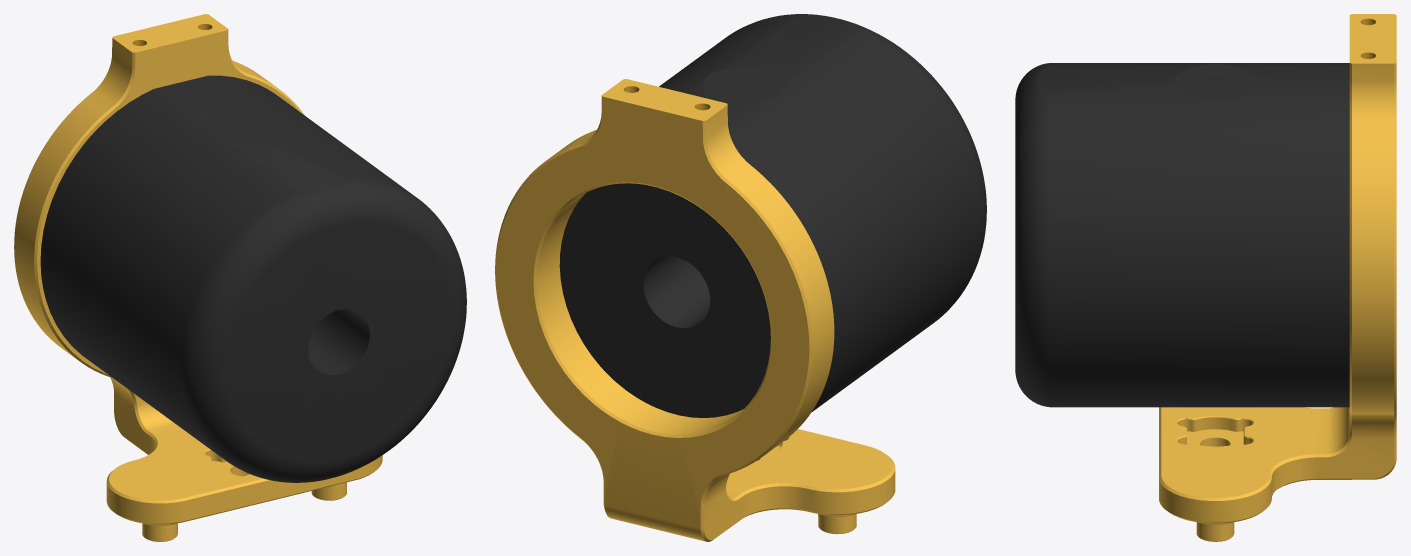
Rendered from arml6.dae.
3 renders of one model, left to right at view 1: azimuth 30°, elevation 25°; view 2: azimuth 150°, elevation 25°; view 3: azimuth 270°, elevation 25°, orthographic. The views are drawn at different scales.
Parts seen in each view (by area): view 1: arml6; view 2: arml6; view 3: arml6.
Boxes of the visible parts, box(x1,y1,x2,y2) form: arml6: box(14, 14, 466, 541); arml6: box(495, 14, 986, 541); arml6: box(1015, 14, 1396, 541).
Bounding box in the file's own units: 0.076 × 0.081 × 0.1059.
1 material, 1 textured.
